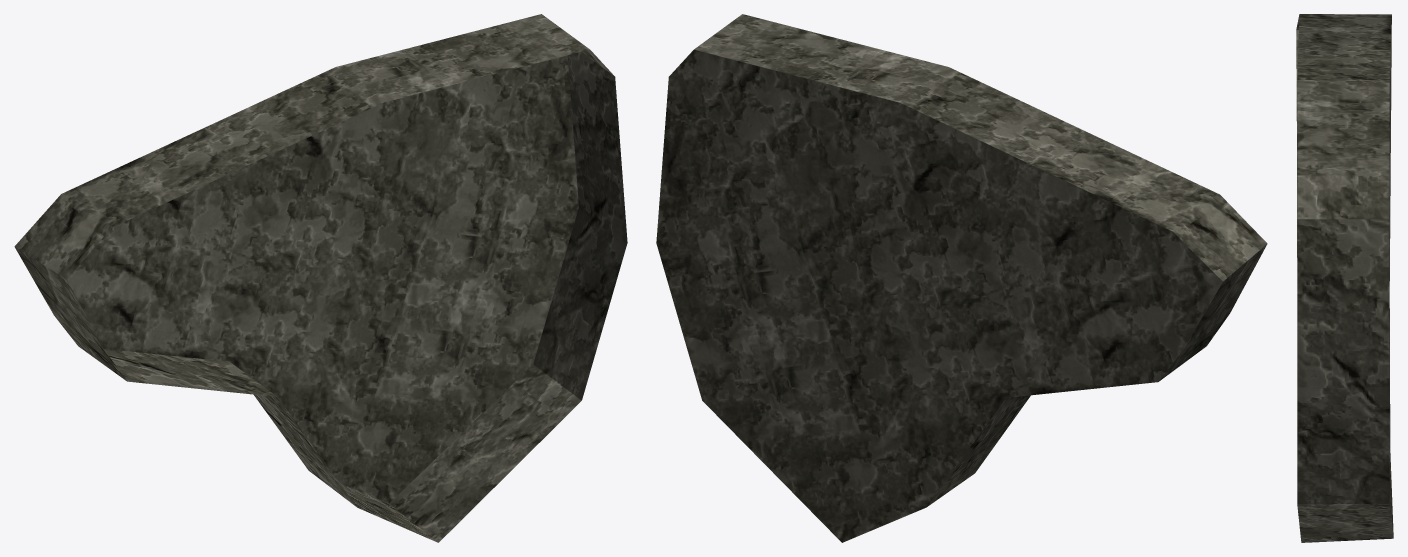
Rendered from TI_Plaster_05.fbx.
3 renders of one model, left to right at view 1: azimuth 30°, elevation 25°; view 2: azimuth 150°, elevation 25°; view 3: azimuth 270°, elevation 25°, orthographic. The views are drawn at different scales.
Parts seen in each view (by area): view 1: TI_Plaster_05; view 2: TI_Plaster_05; view 3: TI_Plaster_05.
Part boxes in pixels (x1=…): TI_Plaster_05: x1=14, y1=14, x2=627, y2=542; TI_Plaster_05: x1=656, y1=14, x2=1267, y2=542; TI_Plaster_05: x1=1296, y1=14, x2=1393, y2=542.
Bounding box in the file's own units: 0.7107 × 0.551 × 0.1116.
